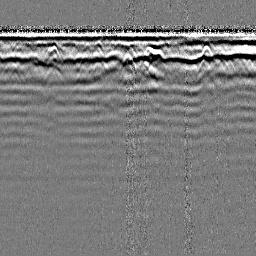cavity: (119, 51, 136, 70)
